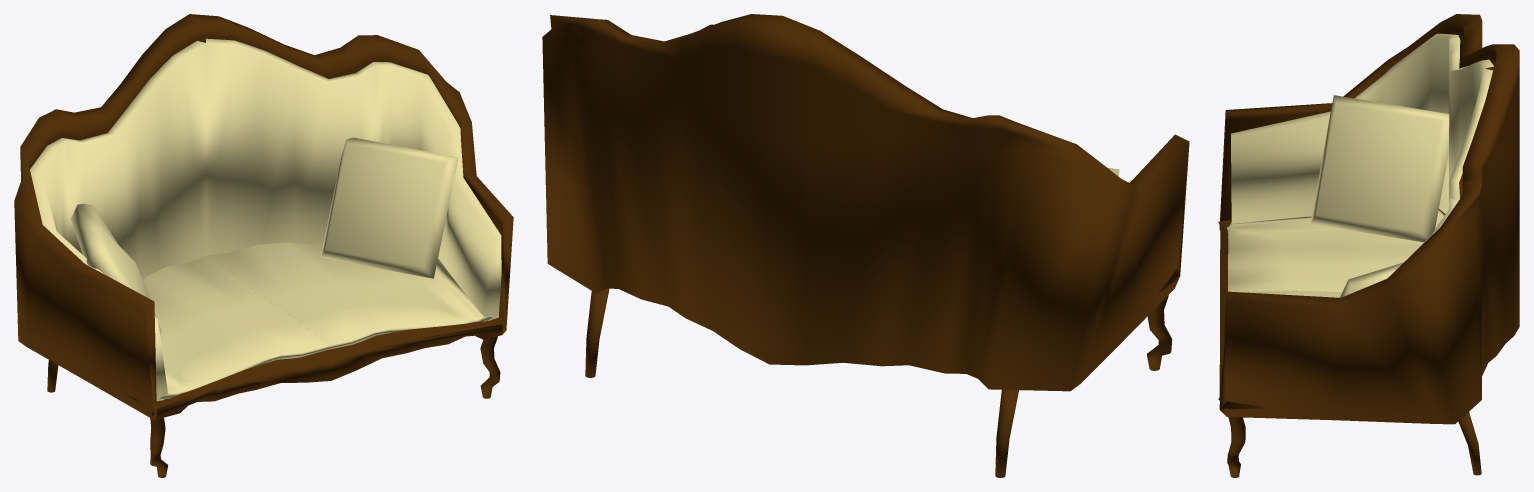
Rendered from Couch.fbx.
3 views of the same model, side by side, from view 1: azimuth 30°, elevation 25°; view 2: azimuth 150°, elevation 25°; view 3: azimuth 270°, elevation 25° (orthographic). The views are drawn at different scales.
Visible parts, largest first — view 1: Cube, Cube.001, Cube.002; view 2: Cube; view 3: Cube, Cube.002, Cube.001.
Part boxes in pixels (<box>): Cube: <box>14,14,513,477</box>; Cube.001: <box>320,137,458,278</box>; Cube.002: <box>71,203,161,334</box>; Cube: <box>542,14,1189,477</box>; Cube: <box>1218,14,1519,477</box>; Cube.002: <box>1310,95,1449,242</box>; Cube.001: <box>1340,262,1403,297</box>.
Size of the model in its own units: 862 by 599 by 479.
